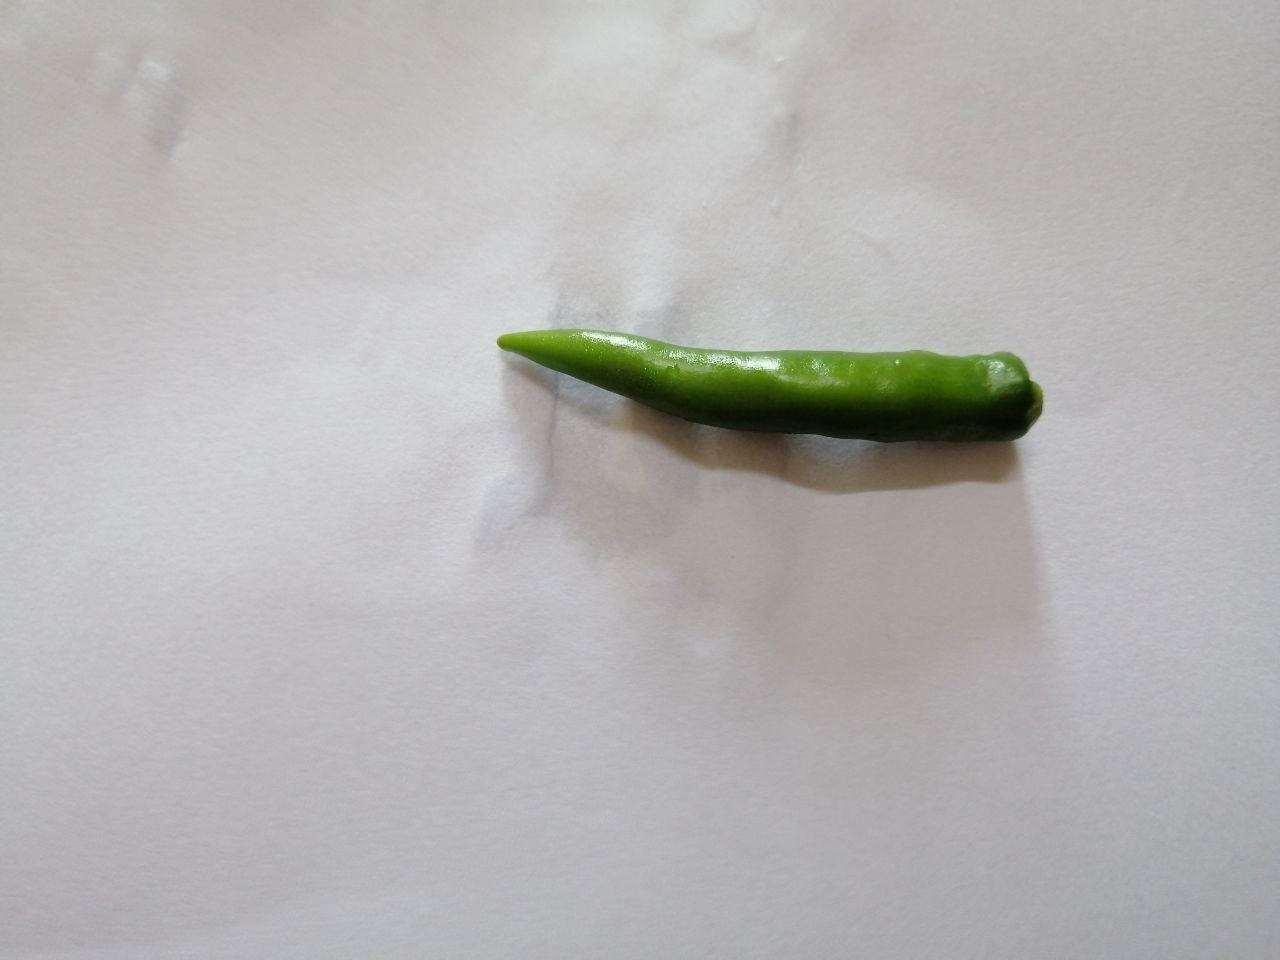lada hijau: (477, 287, 1080, 514)
